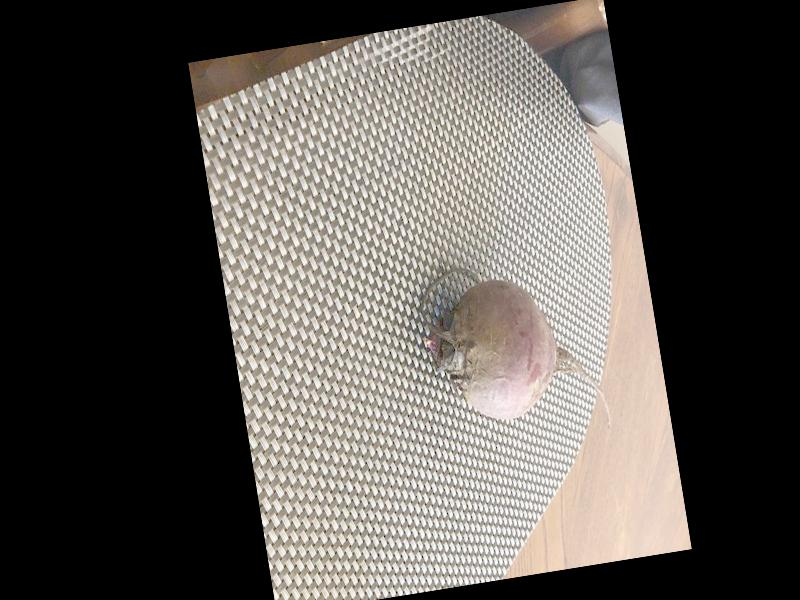Beet: (413, 246, 611, 453)
